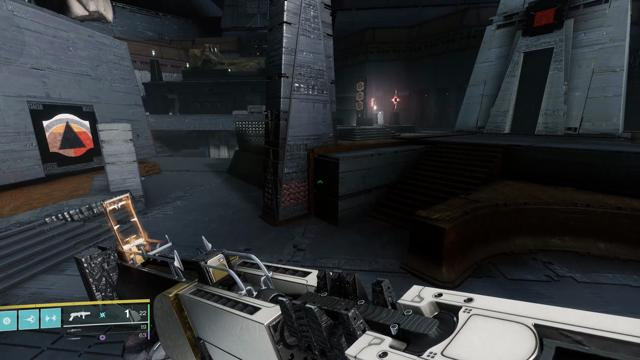pyramid: (43, 112, 95, 157)
